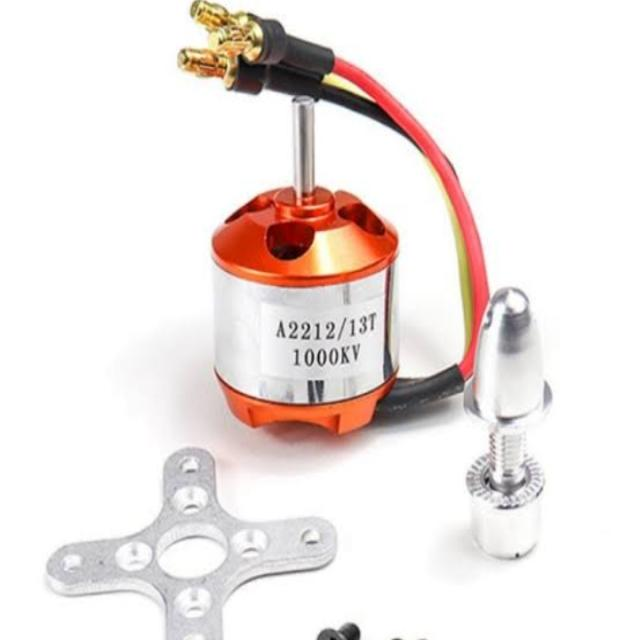motor: (211, 94, 406, 433)
